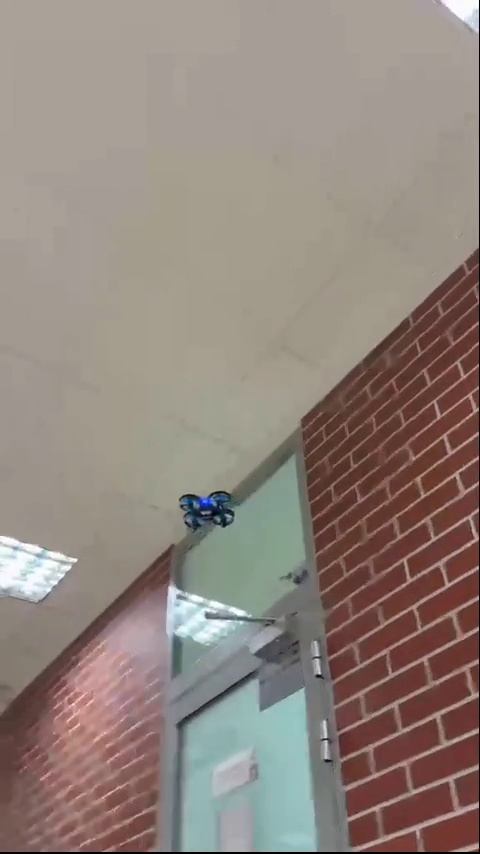drone: (177, 491, 239, 532)
